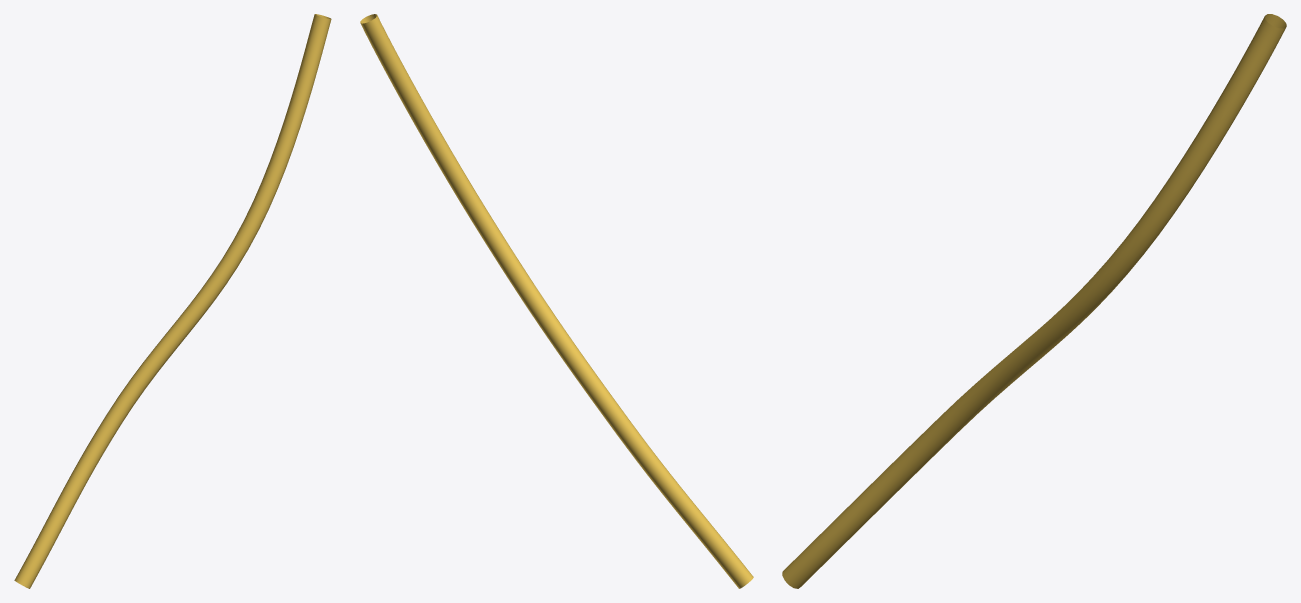
File: Muscular_branches_deep_fibular_nerve_right.glb
3 renders of one model, left to right at view 1: azimuth 30°, elevation 25°; view 2: azimuth 150°, elevation 25°; view 3: azimuth 330°, elevation 25°, orthographic. The views are drawn at different scales.
Visible parts, largest first — view 1: Muscular_branches_of_deep_fibular_nerve.r_BezierCurve.502; view 2: Muscular_branches_of_deep_fibular_nerve.r_BezierCurve.502; view 3: Muscular_branches_of_deep_fibular_nerve.r_BezierCurve.502.
Part boxes in pixels (x1,y1,x2,y2): Muscular_branches_of_deep_fibular_nerve.r_BezierCurve.502: [14, 14, 331, 588]; Muscular_branches_of_deep_fibular_nerve.r_BezierCurve.502: [360, 14, 753, 588]; Muscular_branches_of_deep_fibular_nerve.r_BezierCurve.502: [782, 14, 1286, 588].
Bounding box in the file's own units: 0.0221 × 0.0296 × 0.00396.
